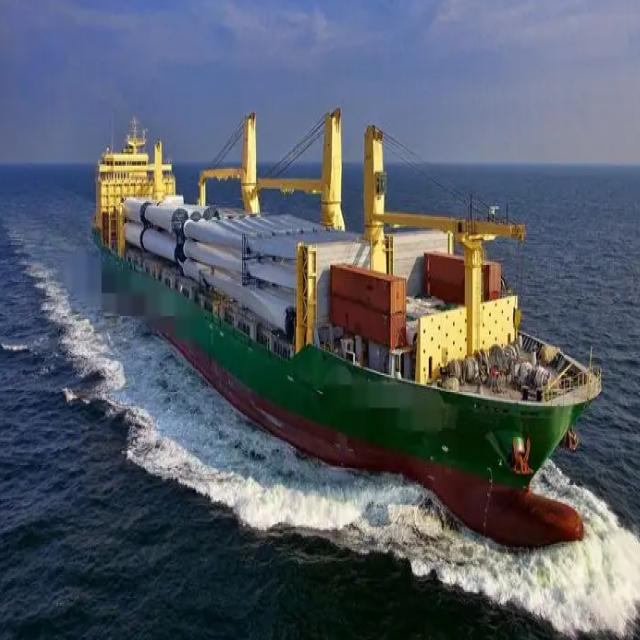cargoship: (87, 106, 599, 533)
